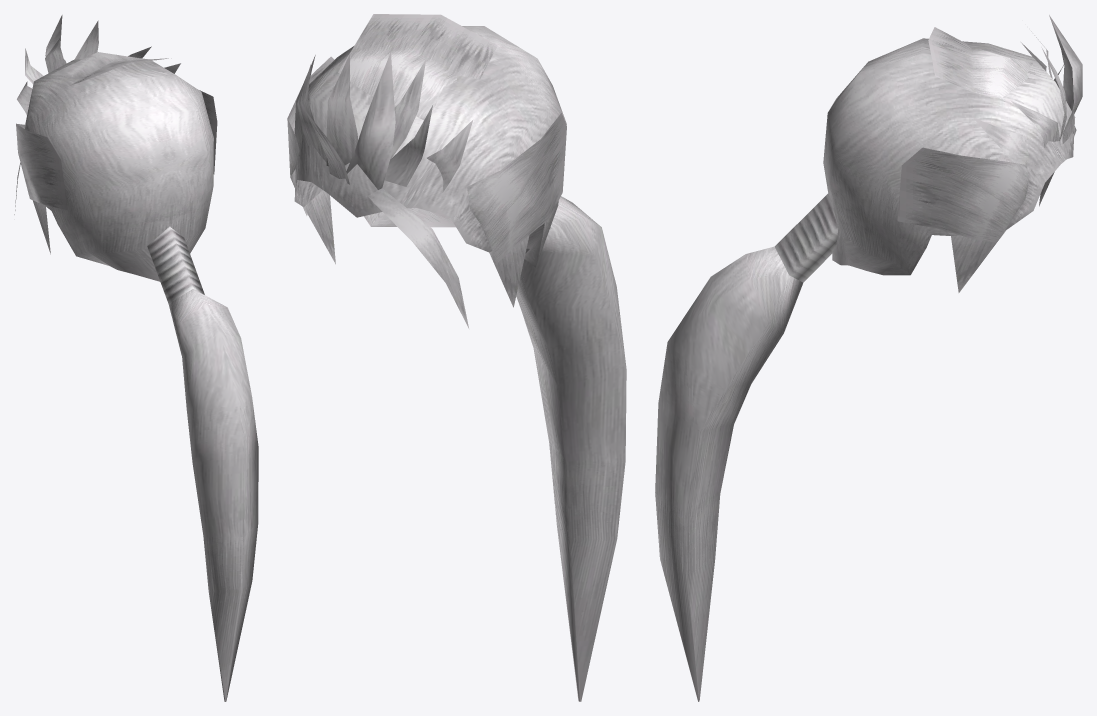
Rendered from Martial arts male hair 49.glb.
3 renders of one model, left to right at view 1: azimuth 30°, elevation 25°; view 2: azimuth 150°, elevation 25°; view 3: azimuth 270°, elevation 25°, orthographic. The views are drawn at different scales.
Visible parts, largest first — view 1: 武侠男头发49_0; view 2: 武侠男头发49_0; view 3: 武侠男头发49_0.
Boxes of the visible parts, x1,y1,x2,y2 form: 武侠男头发49_0: (14, 15, 258, 701); 武侠男头发49_0: (287, 14, 626, 701); 武侠男头发49_0: (655, 15, 1082, 701).
Bounding box in the file's own units: 0.1808 × 0.5902 × 0.3364.
1 material, 1 textured.
